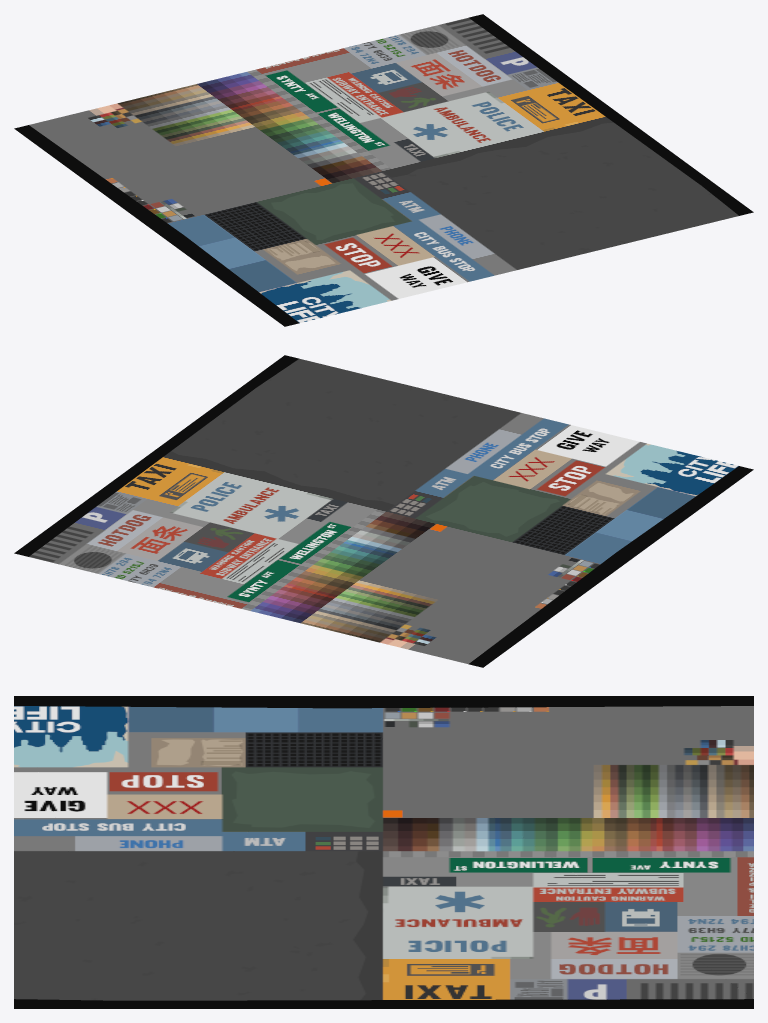
The model's file is SM_Env_Road_Lines_01.glb.
3 views of the same model, one above another, from view 1: azimuth 30°, elevation 25°; view 2: azimuth 150°, elevation 25°; view 3: azimuth 270°, elevation 25° (orthographic). The views are drawn at different scales.
Parts seen in each view (by area): view 1: SM_Env_Road_Lines_01; view 2: SM_Env_Road_Lines_01; view 3: SM_Env_Road_Lines_01.
Boxes of the visible parts, x1=… form: SM_Env_Road_Lines_01: x1=14, y1=14, x2=753, y2=326; SM_Env_Road_Lines_01: x1=14, y1=355, x2=753, y2=667; SM_Env_Road_Lines_01: x1=14, y1=696, x2=753, y2=1008.
Bounding box in the file's own units: 0.05 × 3.77e-09 × 0.05.
1 material, 1 textured.
